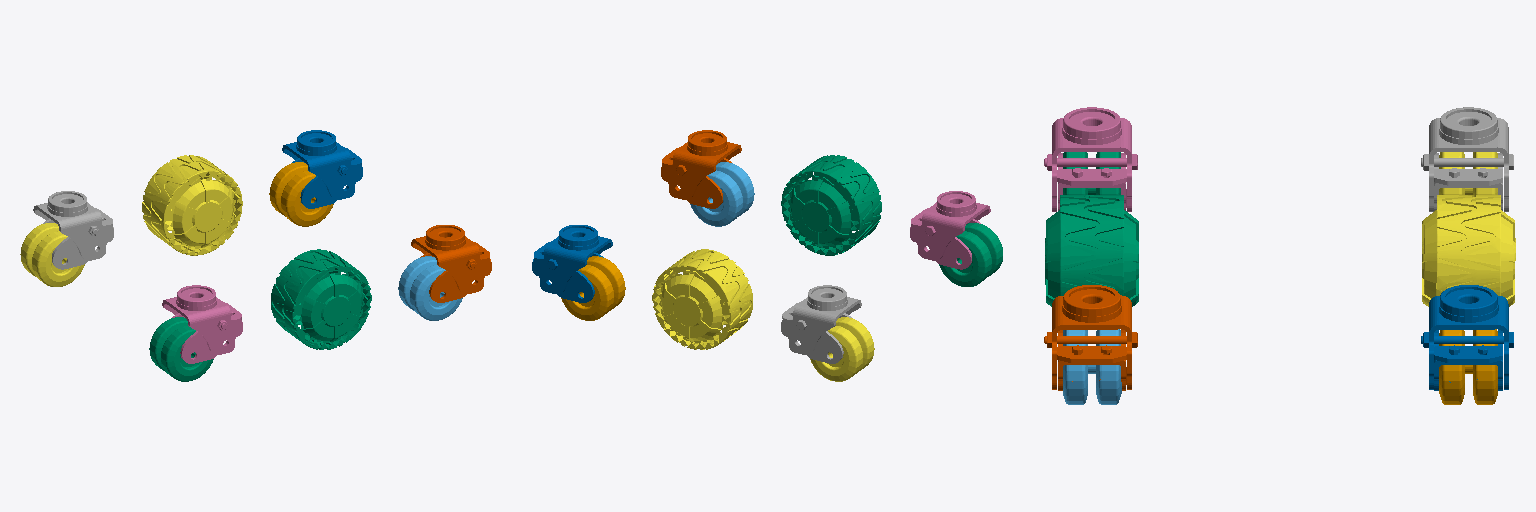
robot.urdf — tracer_v1:
<?xml version='1.0' encoding='utf-8'?>
<robot name="tracer_v1">
  <link name="base_link">
    <visual>
      <origin rpy="1.57 0 0" xyz="0 0 0" />
      <geometry>
        <mesh filename="../meshes/tracer_base_link_no_wheel.obj" />
      </geometry>
    </visual>
    <collision>
      <origin rpy="1.57 0 0" xyz="0 0 0" />
      <geometry>
        <mesh filename="../meshes/tracer_base_link_no_wheel.obj" />
      </geometry>
    </collision>
  </link>
  <link name="inertial_link">
    <inertial>
      <mass value="132.3898489950015" />
      <origin xyz="0.015 0.0231316650320557 0" />
      <inertia ixx="0.185196122711036" ixy="4.30144213829512E-08" ixz="5.81037523686401E-08" iyy="0.364893736238929" iyz="-0.000386720198091934" izz="0.223868521722778" />
    </inertial>
  </link>
  <joint name="inertial_joint" type="fixed">
    <origin rpy="0 0 0" xyz="0 0 0" />
    <parent link="base_link" />
    <child link="inertial_link" />
  </joint>
  <link name="right_wheel_link">
    <inertial>
      <mass value="6" />
      <origin xyz="0 0 0" />
      <inertia ixx="0.7171" ixy="0" ixz="0" iyy="0.1361" iyz="0" izz="0.7171" />
    </inertial>
    <visual>
      <origin rpy="0 0 0" xyz="0 0 0" />
      <geometry>
        <mesh filename="../meshes/tracer_wheel.obj" />
      </geometry>
    </visual>
    <collision>
      <origin rpy="0 0 0" xyz="0 0 0" />
      <geometry>
        <mesh filename="../meshes/tracer_wheel.obj" />
      </geometry>
    </collision>
  </link>
  <joint name="right_wheel" type="continuous">
    <parent link="base_link" />
    <child link="right_wheel_link" />
    <origin rpy="0 0 0" xyz="0 -0.17 -0.082" />
    <axis rpy="0 0 0" xyz="0 1 0" />
  </joint>
  <link name="left_wheel_link">
    <inertial>
      <mass value="6" />
      <origin xyz="0 0 0" />
      <inertia ixx="0.7171" ixy="0" ixz="0" iyy="0.1361" iyz="0" izz="0.7171" />
    </inertial>
    <visual>
      <origin rpy="0 0 0" xyz="0 0 0" />
      <geometry>
        <mesh filename="../meshes/tracer_wheel.obj" />
      </geometry>
    </visual>
    <collision>
      <origin rpy="0 0 0" xyz="0 0 0" />
      <geometry>
        <mesh filename="../meshes/tracer_wheel.obj" />
      </geometry>
    </collision>
  </link>
  <joint name="left_wheel" type="continuous">
    <parent link="base_link" />
    <child link="left_wheel_link" />
    <origin rpy="3.14 0 0" xyz="0 0.17 -0.082" />
    <axis rpy="0 0 0" xyz="0 1 0" />
  </joint>
  <link name="fl_castor_link">
    <inertial>
      <mass value="1" />
      <origin xyz="0 0 0" />
      <inertia ixx="0.7171" ixy="0" ixz="0" iyy="0.1361" iyz="0" izz="0.7171" />
    </inertial>
    <visual>
      <geometry>
        <mesh filename="../meshes/castor_joint.obj" />
      </geometry>
    </visual>
  </link>
  <joint name="fl_castor_wheel" type="continuous">
    <origin rpy="-1.57 0 0" xyz="0.18955 0.17 -0.0380886" />
    <parent link="base_link" />
    <child link="fl_castor_link" />
    <axis rpy="0 0 0" xyz="0 1 0" />
  </joint>
  <link name="fr_castor_link">
    <inertial>
      <mass value="1" />
      <origin xyz="0 0 0" />
      <inertia ixx="0.7171" ixy="0" ixz="0" iyy="0.1361" iyz="0" izz="0.7171" />
    </inertial>
    <visual>
      <geometry>
        <mesh filename="../meshes/castor_joint.obj" />
      </geometry>
    </visual>
  </link>
  <joint name="fr_castor_wheel" type="continuous">
    <origin rpy="-1.57 0 0" xyz="0.18955 -0.17 -0.0380886" />
    <parent link="base_link" />
    <child link="fr_castor_link" />
    <axis rpy="0 0 0" xyz="0 1 0" />
  </joint>
  <link name="rr_castor_link">
    <inertial>
      <mass value="1" />
      <origin xyz="0 0 0" />
      <inertia ixx="0.7171" ixy="0" ixz="0" iyy="0.1361" iyz="0" izz="0.7171" />
    </inertial>
    <visual>
      <geometry>
        <mesh filename="../meshes/castor_joint.obj" />
      </geometry>
    </visual>
  </link>
  <joint name="rr_castor_wheel" type="continuous">
    <origin rpy="-1.57 0 0" xyz="-0.18955 -0.17 -0.0380886" />
    <parent link="base_link" />
    <child link="rr_castor_link" />
    <axis rpy="0 0 0" xyz="0 1 0" />
  </joint>
  <link name="rl_castor_link">
    <inertial>
      <mass value="1" />
      <origin xyz="0 0 0" />
      <inertia ixx="0.7171" ixy="0" ixz="0" iyy="0.1361" iyz="0" izz="0.7171" />
    </inertial>
    <visual>
      <geometry>
        <mesh filename="../meshes/castor_joint.obj" />
      </geometry>
    </visual>
  </link>
  <joint name="rl_castor_wheel" type="continuous">
    <origin rpy="-1.57 0 0" xyz="-0.18955 0.17 -0.0380886" />
    <parent link="base_link" />
    <child link="rl_castor_link" />
    <axis rpy="0 0 0" xyz="0 1 0" />
  </joint>
  <link name="fl_wheel_link">
    <inertial>
      <mass value="1" />
      <origin xyz="0 0 0" />
      <inertia ixx="0.3131" ixy="0" ixz="0" iyy="0.3131" iyz="0" izz="0.1361" />
    </inertial>
    <visual>
      <geometry>
        <mesh filename="../meshes/castor.obj" />
      </geometry>
    </visual>
    <collision>
      <origin rpy="0 0 0" xyz="0 0 0" />
      <geometry>
        --&gt;
                
        
        
        
        <mesh filename="../meshes/castor.obj" />
      </geometry>
    </collision>
  </link>
  <joint name="fl_wheel" type="continuous">
    <parent link="fl_castor_link" />
    <child link="fl_wheel_link" />
    <dynamics damping="0.0" friction="0.0" />
    <origin rpy="0 0 0" xyz="-0.0218084 0.067 0" />
    <axis rpy="0 0 0" xyz="0 0 1" />
  </joint>
  <link name="fr_wheel_link">
    <inertial>
      <mass value="1" />
      <origin xyz="0 0 0" />
      <inertia ixx="0.3131" ixy="0" ixz="0" iyy="0.3131" iyz="0" izz="0.1361" />
    </inertial>
    <visual>
      <geometry>
        <mesh filename="../meshes/castor.obj" />
      </geometry>
    </visual>
    <collision>
      <origin rpy="0 0 0" xyz="0 0 0" />
      <geometry>
        --&gt;
                
        
        
        
        <mesh filename="../meshes/castor.obj" />
      </geometry>
    </collision>
  </link>
  <joint name="fr_wheel" type="continuous">
    <parent link="fr_castor_link" />
    <child link="fr_wheel_link" />
    <dynamics damping="0.0" friction="0.0" />
    <origin rpy="0 0 0" xyz="-0.0218084 0.067 0" />
    <axis rpy="0 0 0" xyz="0 0 1" />
  </joint>
  <link name="rr_wheel_link">
    <inertial>
      <mass value="1" />
      <origin xyz="0 0 0" />
      <inertia ixx="0.3131" ixy="0" ixz="0" iyy="0.3131" iyz="0" izz="0.1361" />
    </inertial>
    <visual>
      <geometry>
        <mesh filename="../meshes/castor.obj" />
      </geometry>
    </visual>
    <collision>
      <origin rpy="0 0 0" xyz="0 0 0" />
      <geometry>
        <mesh filename="../meshes/castor.obj" />
      </geometry>
    </collision>
  </link>
  <joint name="rr_wheel" type="continuous">
    <parent link="rr_castor_link" />
    <child link="rr_wheel_link" />
    <dynamics damping="0.0" friction="0.0" />
    <origin rpy="0 0 0" xyz="-0.0218084 0.067 0" />
    <axis rpy="0 0 0" xyz="0 0 1" />
  </joint>
  <link name="rl_wheel_link">
    <inertial>
      <mass value="1" />
      <origin xyz="0 0 0" />
      <inertia ixx="0.3131" ixy="0" ixz="0" iyy="0.3131" iyz="0" izz="0.1361" />
    </inertial>
    <visual>
      <geometry>
        <mesh filename="../meshes/castor.obj" />
      </geometry>
    </visual>
    <collision>
      <origin rpy="0 0 0" xyz="0 0 0" />
      <geometry>
        <mesh filename="../meshes/castor.obj" />
      </geometry>
    </collision>
  </link>
  <joint name="rl_wheel" type="continuous">
    <parent link="rl_castor_link" />
    <child link="rl_wheel_link" />
    <dynamics damping="0.0" friction="0.0" />
    <origin rpy="0 0 0" xyz="-0.0218084 0.067 0" />
    <axis rpy="0 0 0" xyz="0 0 1" />
  </joint>
</robot>

--- Facts derived from the render (not from the file) ---
3 views of the same robot in one strip: view 1: azimuth 30°, elevation 25°; view 2: azimuth 150°, elevation 25°; view 3: azimuth 270°, elevation 25° (orthographic).
Robot: tracer_v1 — 12 links, 11 joints (10 continuous, 1 fixed); root link base_link; default pose: every joint at zero.
Links seen in each view (by area): view 1: left_wheel_link, right_wheel_link, fl_castor_link, rr_castor_link, rl_castor_link, fr_castor_link, fr_wheel_link, rr_wheel_link, fl_wheel_link, rl_wheel_link; view 2: right_wheel_link, left_wheel_link, fr_castor_link, rl_castor_link, rr_castor_link, fl_castor_link, fl_wheel_link, fr_wheel_link, rl_wheel_link, rr_wheel_link; view 3: right_wheel_link, left_wheel_link, fr_castor_link, fl_castor_link, rr_castor_link, rl_castor_link, fl_wheel_link, fr_wheel_link, rl_wheel_link, rr_wheel_link.
Boxes of the visible links, bbox=[...] form: left_wheel_link: bbox=[142, 155, 242, 255]; right_wheel_link: bbox=[271, 249, 371, 349]; fl_castor_link: bbox=[282, 130, 362, 208]; rr_castor_link: bbox=[162, 285, 242, 363]; rl_castor_link: bbox=[33, 191, 113, 269]; fr_castor_link: bbox=[411, 225, 491, 302]; fr_wheel_link: bbox=[398, 256, 462, 320]; rr_wheel_link: bbox=[149, 317, 213, 381]; fl_wheel_link: bbox=[269, 162, 333, 226]; rl_wheel_link: bbox=[20, 223, 84, 286]; right_wheel_link: bbox=[781, 155, 881, 255]; left_wheel_link: bbox=[652, 249, 752, 349]; fr_castor_link: bbox=[661, 130, 741, 208]; rl_castor_link: bbox=[781, 285, 861, 363]; rr_castor_link: bbox=[910, 191, 990, 269]; fl_castor_link: bbox=[532, 225, 612, 302]; fl_wheel_link: bbox=[561, 256, 625, 320]; fr_wheel_link: bbox=[690, 162, 754, 226]; rl_wheel_link: bbox=[810, 317, 874, 381]; rr_wheel_link: bbox=[939, 223, 1002, 286]; right_wheel_link: bbox=[1045, 195, 1138, 306]; left_wheel_link: bbox=[1422, 195, 1515, 306]; fr_castor_link: bbox=[1044, 285, 1137, 390]; fl_castor_link: bbox=[1421, 285, 1513, 390]; rr_castor_link: bbox=[1044, 107, 1137, 211]; rl_castor_link: bbox=[1421, 107, 1513, 211]; fl_wheel_link: bbox=[1439, 329, 1497, 404]; fr_wheel_link: bbox=[1063, 329, 1121, 404]; rl_wheel_link: bbox=[1439, 152, 1497, 194]; rr_wheel_link: bbox=[1063, 152, 1120, 194].
Bounding box of the posed robot: 0.4958 × 0.4252 × 0.1211 m (x, y, z).
10 mesh visuals loaded from 4 distinct referenced files (3 OBJ); not drawn: 1 (reference not matched to a file when rendering).
